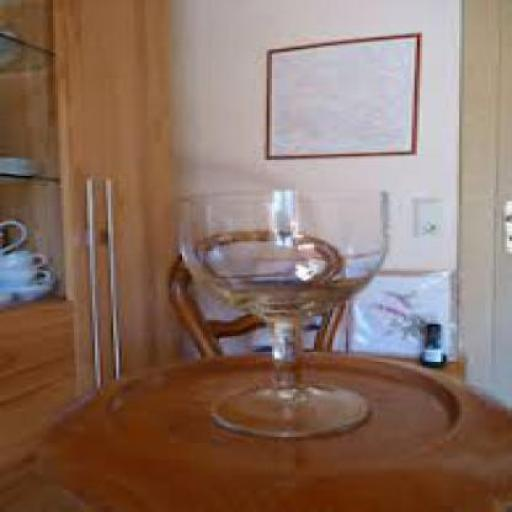glass: (174, 188, 382, 435), (420, 322, 440, 362)
